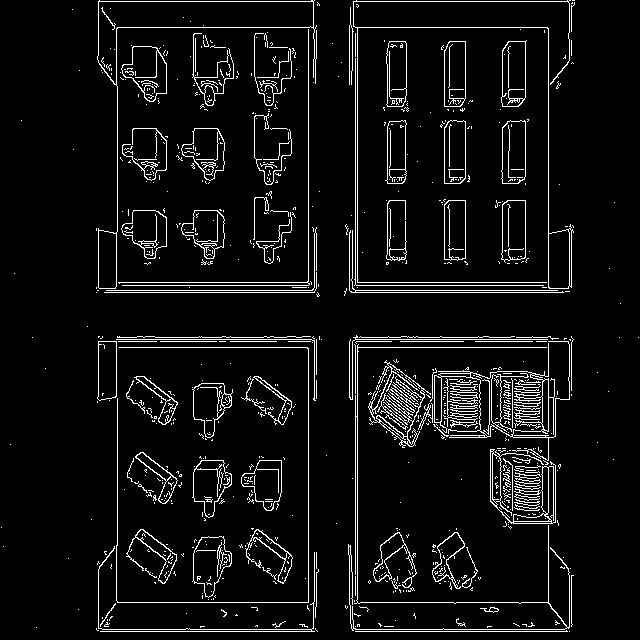Battery: (128, 451, 182, 504), (126, 529, 178, 584), (242, 376, 295, 425), (245, 529, 292, 584), (126, 376, 178, 425), (440, 120, 468, 183), (501, 120, 528, 184), (501, 41, 526, 108), (441, 41, 466, 106), (501, 200, 526, 264), (386, 41, 408, 111), (444, 200, 467, 264), (385, 121, 406, 184), (386, 200, 406, 264)
Pump: (369, 361, 430, 448), (490, 448, 556, 526), (492, 371, 555, 438), (434, 370, 490, 438)
Regulator: (432, 531, 478, 590), (120, 46, 168, 102), (374, 529, 416, 592), (179, 128, 225, 184), (192, 536, 232, 599), (179, 210, 224, 265), (192, 458, 232, 519), (122, 128, 168, 181), (192, 382, 232, 440), (121, 210, 168, 259), (241, 456, 282, 511)
Sensor: (192, 32, 238, 110), (251, 191, 294, 264), (254, 32, 295, 107), (254, 114, 291, 185)
